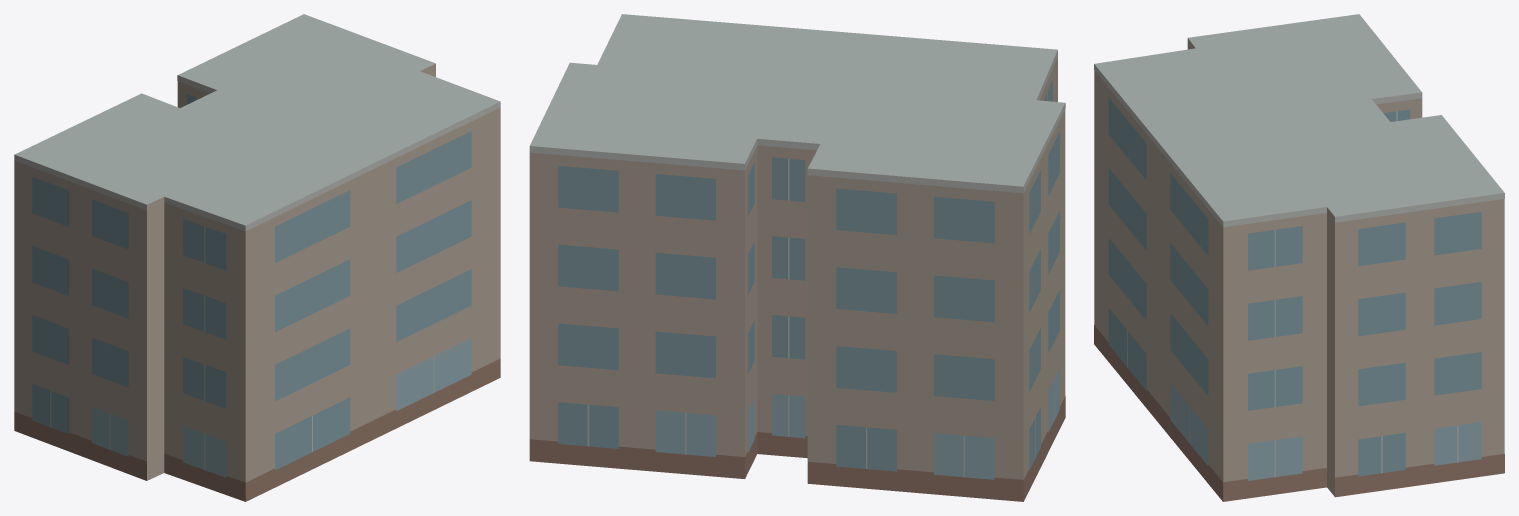
The model's file is survey-upis-32983927.glb.
3 views of the same model, side by side, from view 1: azimuth 30°, elevation 25°; view 2: azimuth 150°, elevation 25°; view 3: azimuth 270°, elevation 25° (orthographic). The views are drawn at different scales.
Parts seen in each view (by area): view 1: survey-upis-32983927.tmp; view 2: survey-upis-32983927.tmp; view 3: survey-upis-32983927.tmp.
Boxes of the visible parts, x1,y1,x2,y2 form: survey-upis-32983927.tmp: (14,14,500,501); survey-upis-32983927.tmp: (529,14,1065,501); survey-upis-32983927.tmp: (1094,14,1504,501).
Size of the model in its own units: 18.5 by 11.65 by 15.48.
